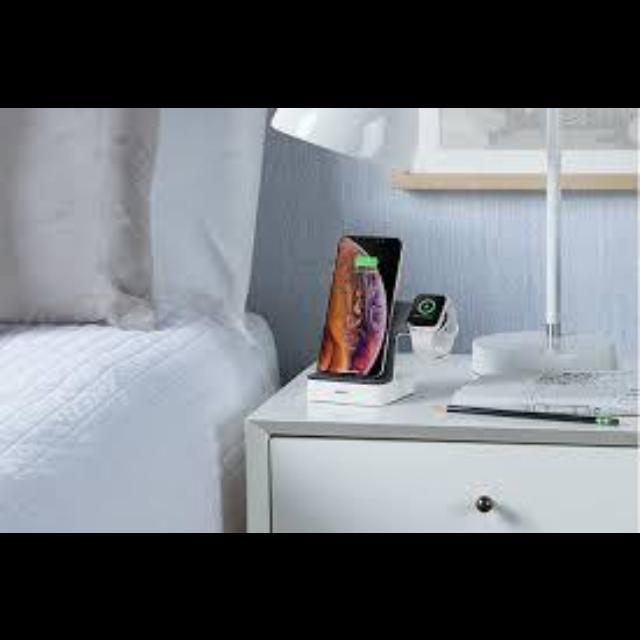phone: (316, 225, 416, 389)
